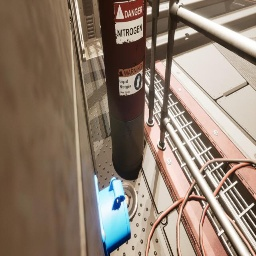NitrogenTank ,: (98, 0, 147, 172)
